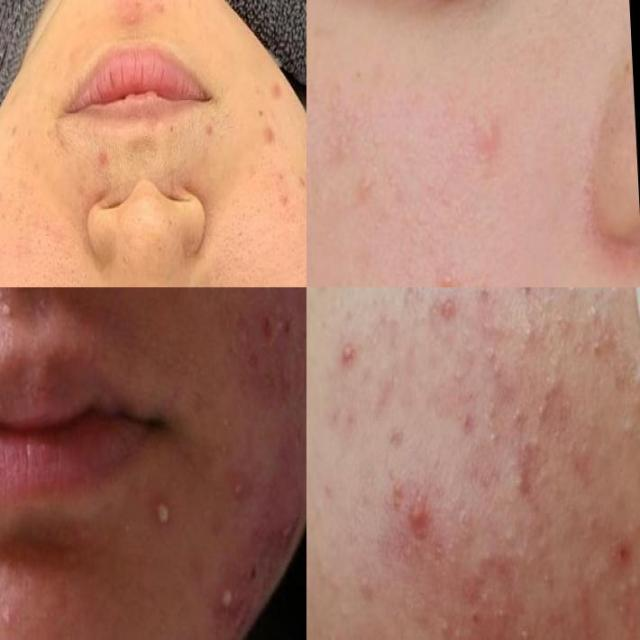acne_scars: (273, 180, 293, 224), (260, 119, 280, 159), (267, 70, 284, 111), (0, 180, 5, 214)
comedone: (559, 287, 620, 363), (509, 308, 544, 362), (344, 168, 378, 213), (531, 388, 559, 432), (620, 567, 640, 623), (432, 288, 462, 324), (481, 405, 502, 454), (427, 260, 462, 288), (579, 513, 603, 549), (498, 543, 534, 566), (358, 568, 379, 603), (486, 346, 507, 380), (473, 544, 499, 571), (512, 615, 540, 640), (621, 416, 640, 450), (509, 402, 529, 433), (160, 288, 194, 306), (537, 566, 557, 592), (401, 288, 426, 306), (451, 360, 466, 388), (478, 581, 494, 605), (558, 287, 582, 303), (472, 270, 491, 288), (596, 443, 606, 475), (313, 631, 347, 640), (438, 616, 451, 638), (425, 632, 438, 640)
folliculitis: (0, 287, 17, 335)
papule: (394, 489, 445, 548), (463, 114, 499, 180), (494, 466, 540, 504), (0, 591, 18, 635), (32, 622, 66, 640)
pustule: (329, 335, 362, 388), (217, 574, 245, 626), (218, 469, 246, 520), (150, 494, 178, 540)
sebo-crystan-conglo: (248, 467, 298, 567)
